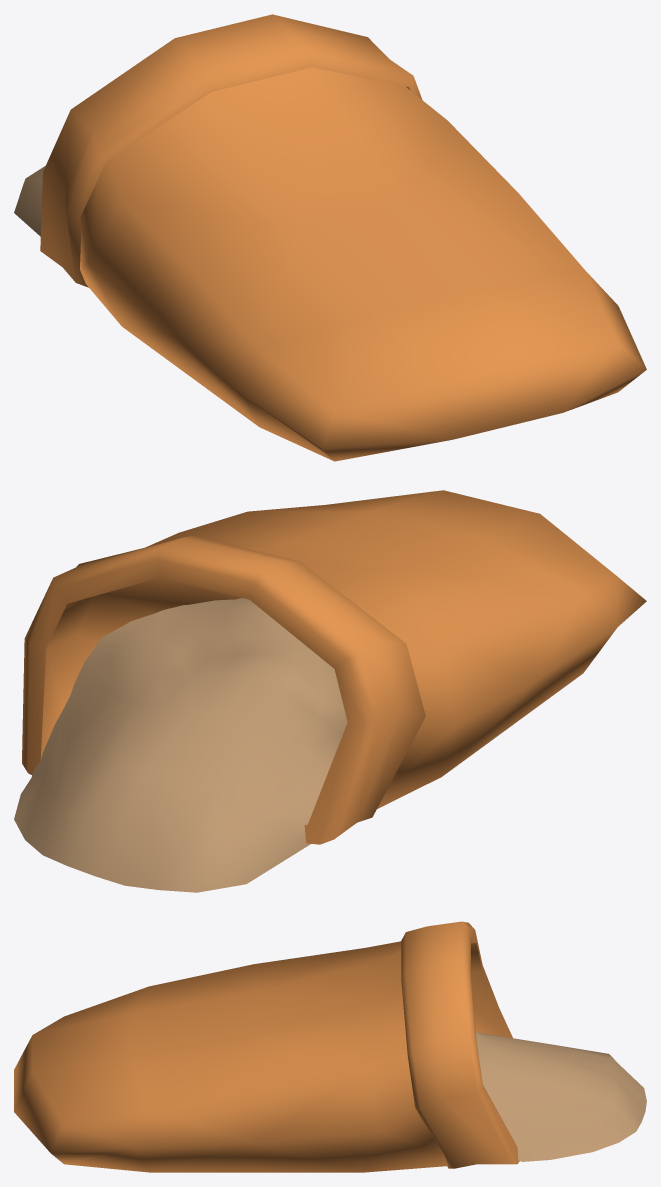
The model's file is GrainSack_Spill.fbx.
3 renders of one model, top to bottom at view 1: azimuth 30°, elevation 25°; view 2: azimuth 150°, elevation 25°; view 3: azimuth 270°, elevation 25°, orthographic. The views are drawn at different scales.
Visible parts, largest first — view 1: Grain_Sack_Spill, Grain_Sack_003_Grain; view 2: Grain_Sack_Spill, Grain_Sack_003_Grain; view 3: Grain_Sack_Spill, Grain_Sack_003_Grain.
Boxes of the visible parts, <box> form: Grain_Sack_Spill: <box>40,14,646,461</box>; Grain_Sack_003_Grain: <box>14,166,45,236</box>; Grain_Sack_Spill: <box>22,490,646,844</box>; Grain_Sack_003_Grain: <box>14,598,347,892</box>; Grain_Sack_Spill: <box>14,921,519,1172</box>; Grain_Sack_003_Grain: <box>475,1031,646,1161</box>.
Bounding box in the file's own units: 20.71 × 11.76 × 38.73.
